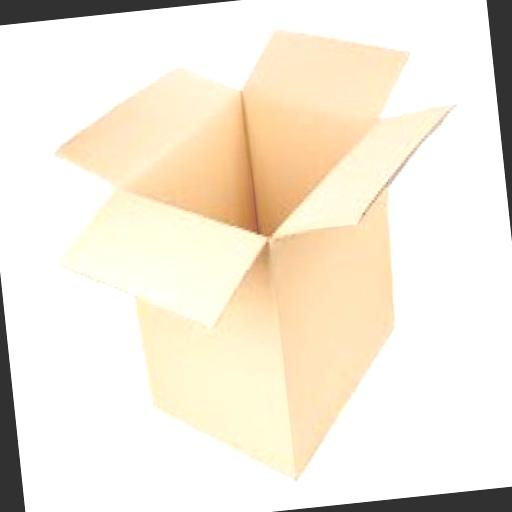cardboard: (33, 6, 493, 495)
